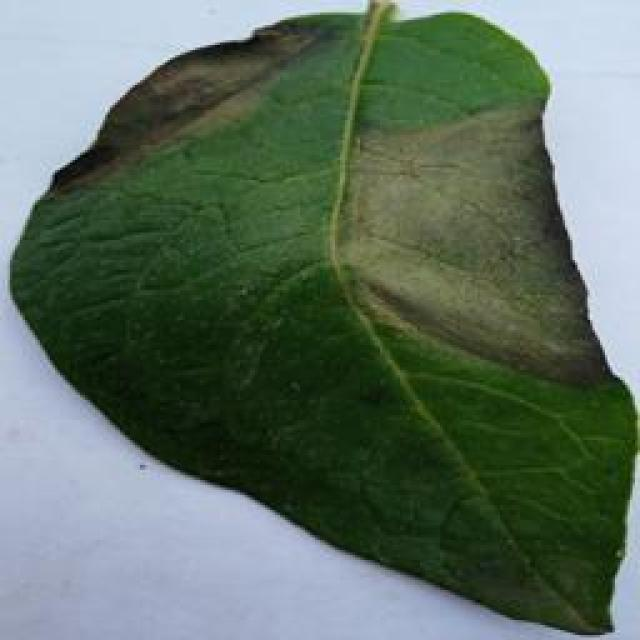Potato_Late_Blight: (13, 9, 626, 633)
